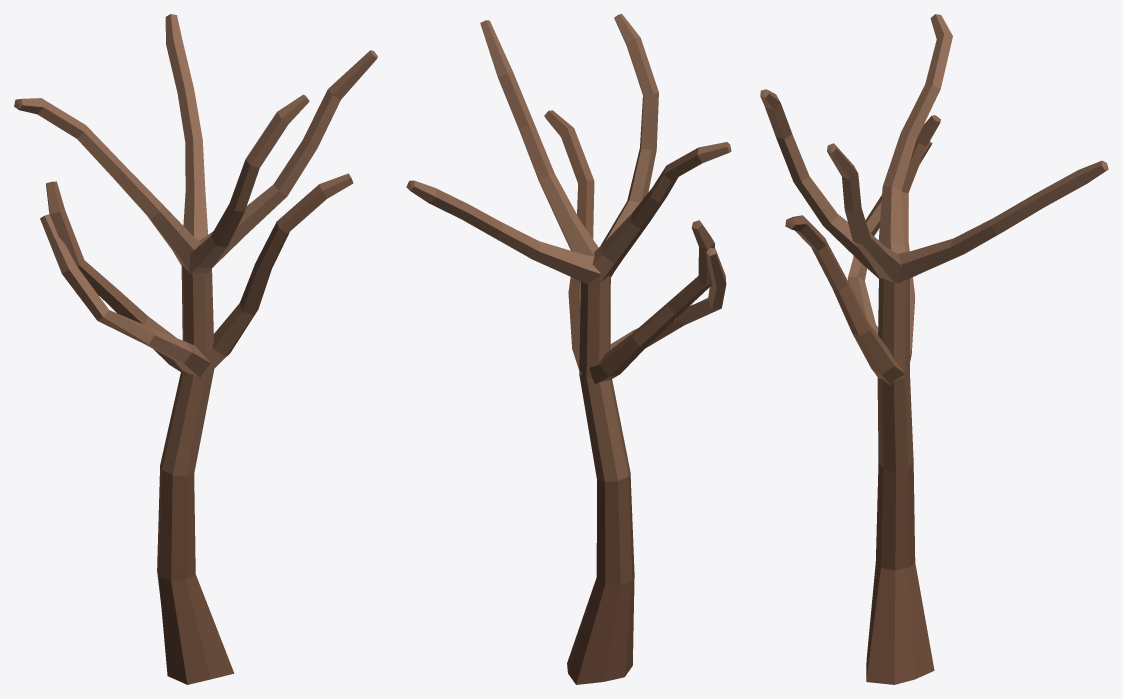
The model's file is naked_tree_2.fbx.
3 renders of one model, left to right at view 1: azimuth 30°, elevation 25°; view 2: azimuth 150°, elevation 25°; view 3: azimuth 270°, elevation 25°, orthographic. The views are drawn at different scales.
Parts seen in each view (by area): view 1: naked_tree_2; view 2: naked_tree_2; view 3: naked_tree_2.
Boxes of the visible parts, <box> form: naked_tree_2: <box>14,14,377,684</box>; naked_tree_2: <box>406,14,731,684</box>; naked_tree_2: <box>760,14,1108,684</box>.
Size of the model in its own units: 330 by 625 by 328.
